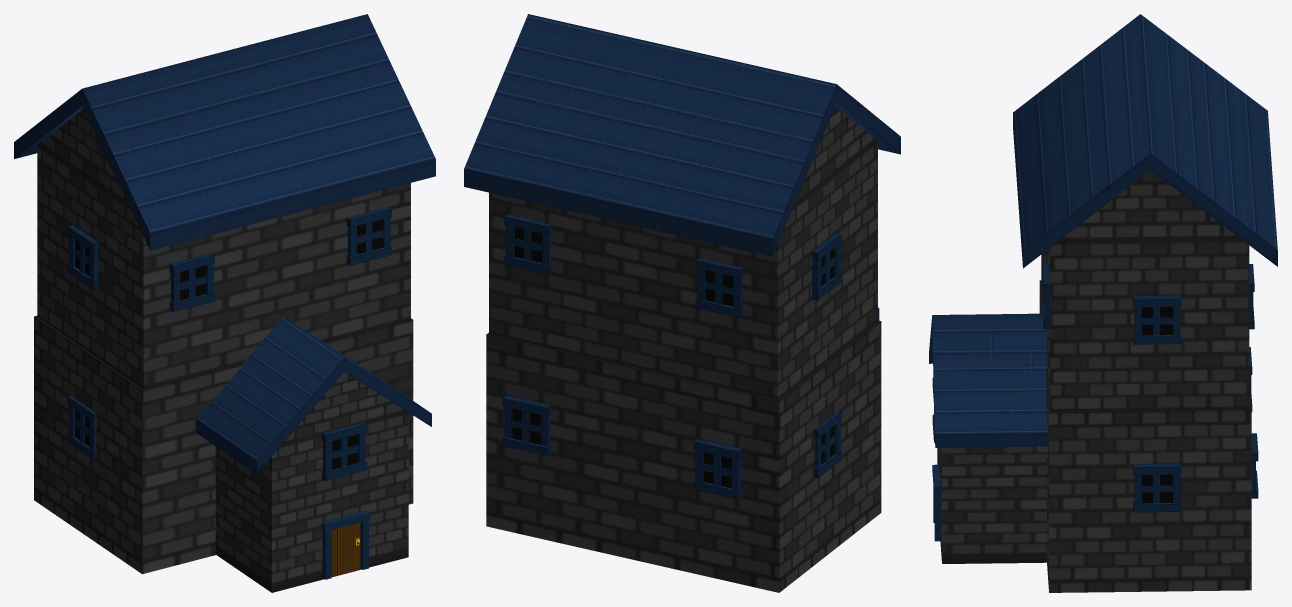
The model's file is Royal_town_house_3.fbx.
The picture shows the model from 3 angles, left to right: view 1: azimuth 30°, elevation 25°; view 2: azimuth 150°, elevation 25°; view 3: azimuth 270°, elevation 25°; orthographic projection. The views are drawn at different scales.
Parts seen in each view (by area): view 1: polySurface189; view 2: polySurface189; view 3: polySurface189.
Boxes of the visible parts, bbox=[...] form: polySurface189: bbox=[14, 14, 435, 592]; polySurface189: bbox=[464, 14, 900, 592]; polySurface189: bbox=[929, 14, 1277, 592].
Size of the model in its own units: 3.24 by 4.68 by 3.35.
